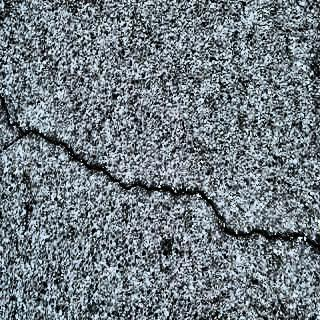crack: (192, 179, 320, 250), (76, 156, 196, 204), (0, 92, 77, 162)
